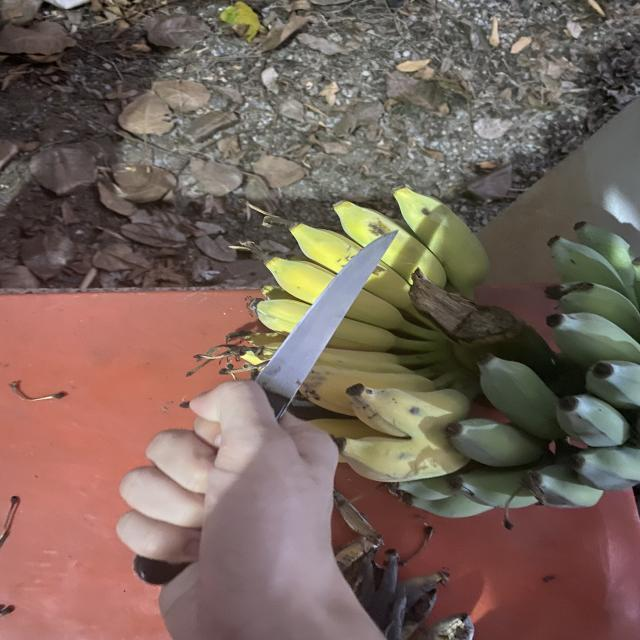faca: (74, 227, 426, 612)
